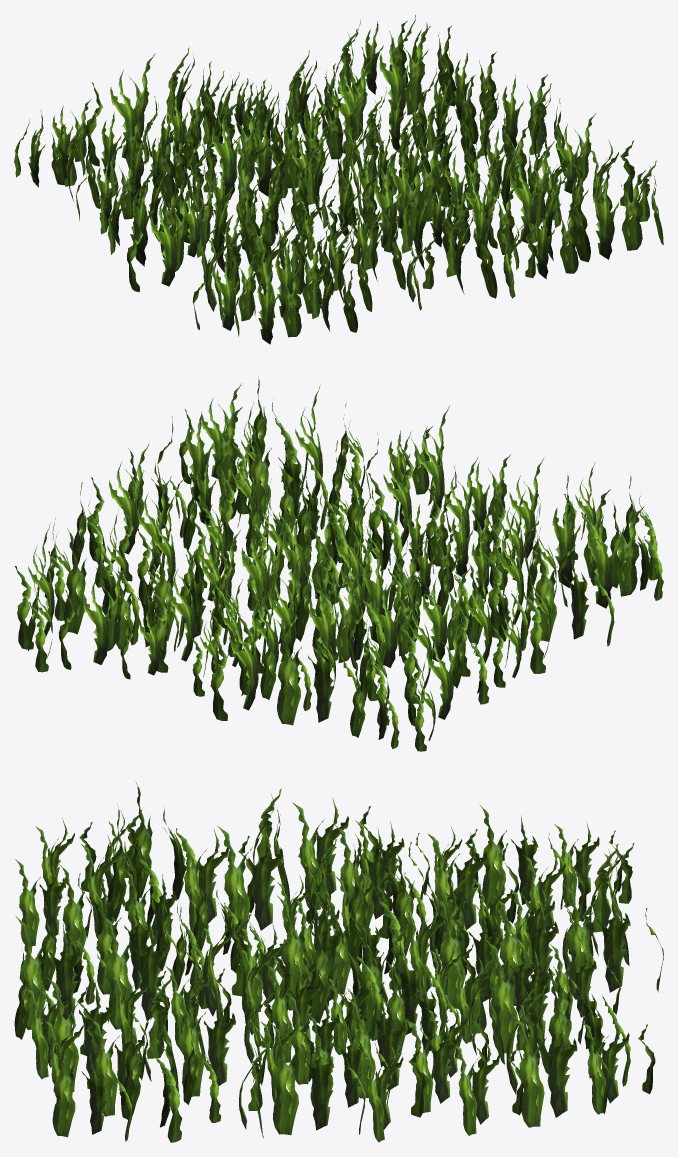
File: seaweed.obj
The picture shows the model from 3 angles, top to bottom: view 1: azimuth 30°, elevation 25°; view 2: azimuth 150°, elevation 25°; view 3: azimuth 270°, elevation 25°; orthographic projection. The views are drawn at different scales.
Parts seen in each view (by area): view 1: default; view 2: default; view 3: default.
Boxes of the visible parts, left/top/right/bottom form: default: left=14, top=15, right=663, bottom=344; default: left=15, top=376, right=663, bottom=751; default: left=14, top=782, right=663, bottom=1142.
Bounding box in the file's own units: 5.81 × 1.15 × 5.81.
